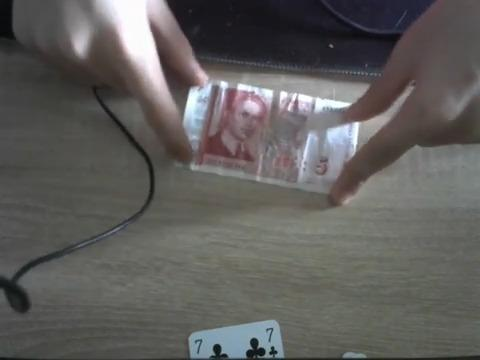5leva: (184, 80, 354, 192)
